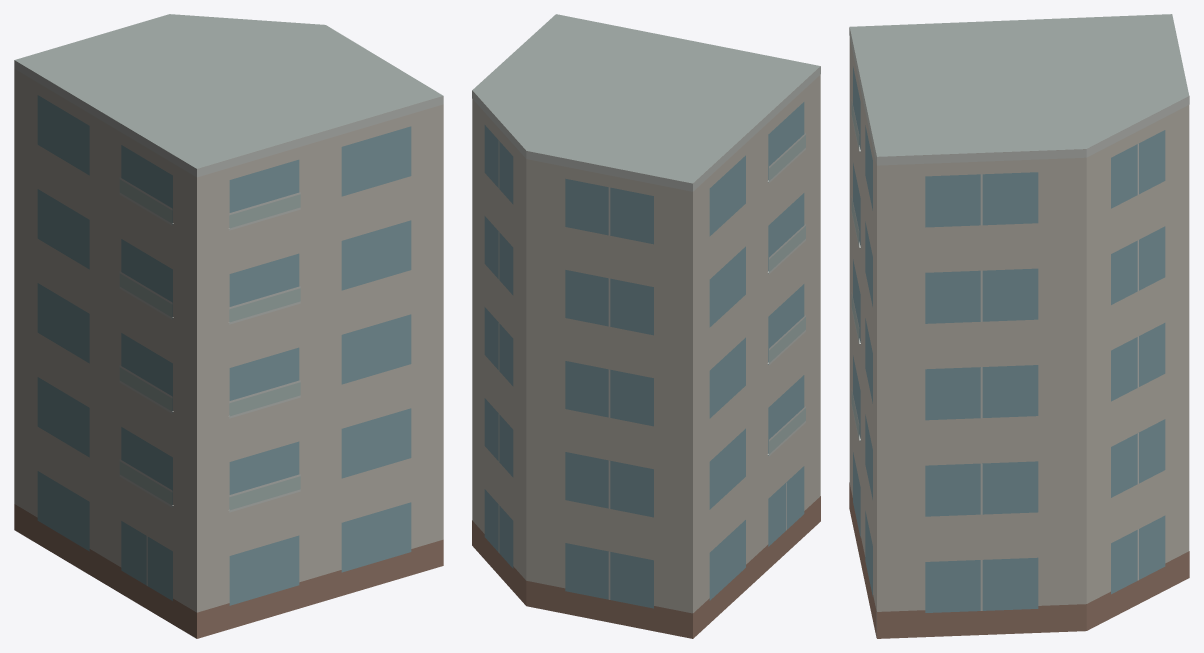
Rendered from survey-upis-32759661.glb.
The picture shows the model from 3 angles, left to right: view 1: azimuth 30°, elevation 25°; view 2: azimuth 150°, elevation 25°; view 3: azimuth 270°, elevation 25°; orthographic projection. The views are drawn at different scales.
Visible parts, largest first — view 1: survey-upis-32759661.tmp; view 2: survey-upis-32759661.tmp; view 3: survey-upis-32759661.tmp.
Part boxes in pixels (bbox=[...]): survey-upis-32759661.tmp: bbox=[14, 14, 443, 638]; survey-upis-32759661.tmp: bbox=[472, 14, 820, 638]; survey-upis-32759661.tmp: bbox=[849, 14, 1189, 638].
Size of the model in its own units: 8.56 by 13.45 by 8.6.
